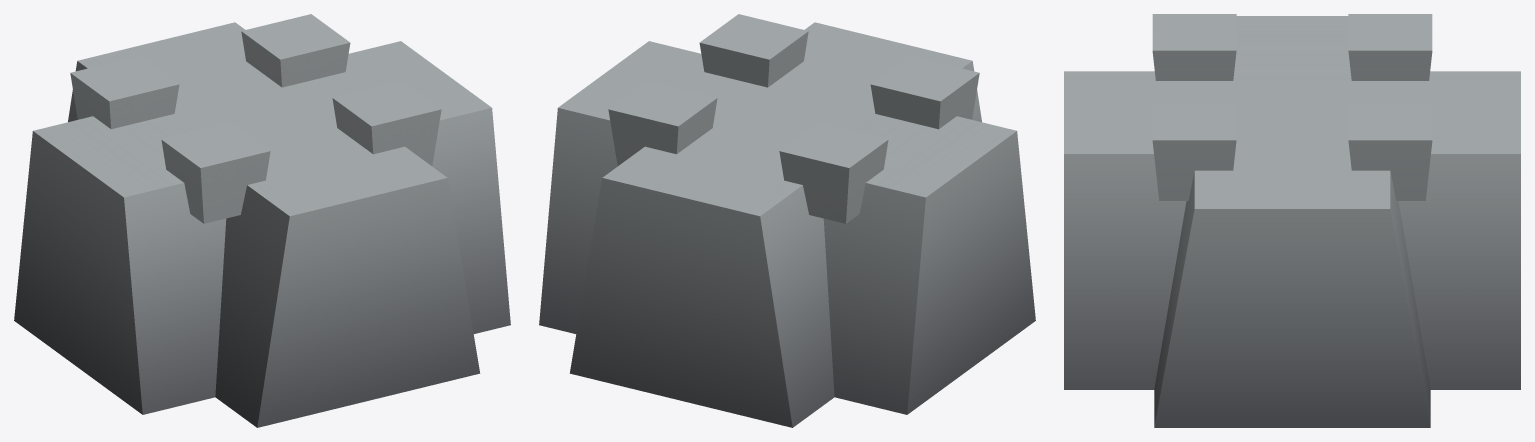
The model's file is SM_WallCross_Rampart.fbx.
The picture shows the model from 3 angles, left to right: view 1: azimuth 30°, elevation 25°; view 2: azimuth 150°, elevation 25°; view 3: azimuth 270°, elevation 25°; orthographic projection. The views are drawn at different scales.
Visible parts, largest first — view 1: SM_WallCross_Rampart; view 2: SM_WallCross_Rampart; view 3: SM_WallCross_Rampart.
Part boxes in pixels (x1,y1,x2,y2): SM_WallCross_Rampart: [14, 14, 510, 427]; SM_WallCross_Rampart: [539, 14, 1035, 427]; SM_WallCross_Rampart: [1064, 14, 1520, 427].
Size of the model in its own units: 200 by 121 by 200.
